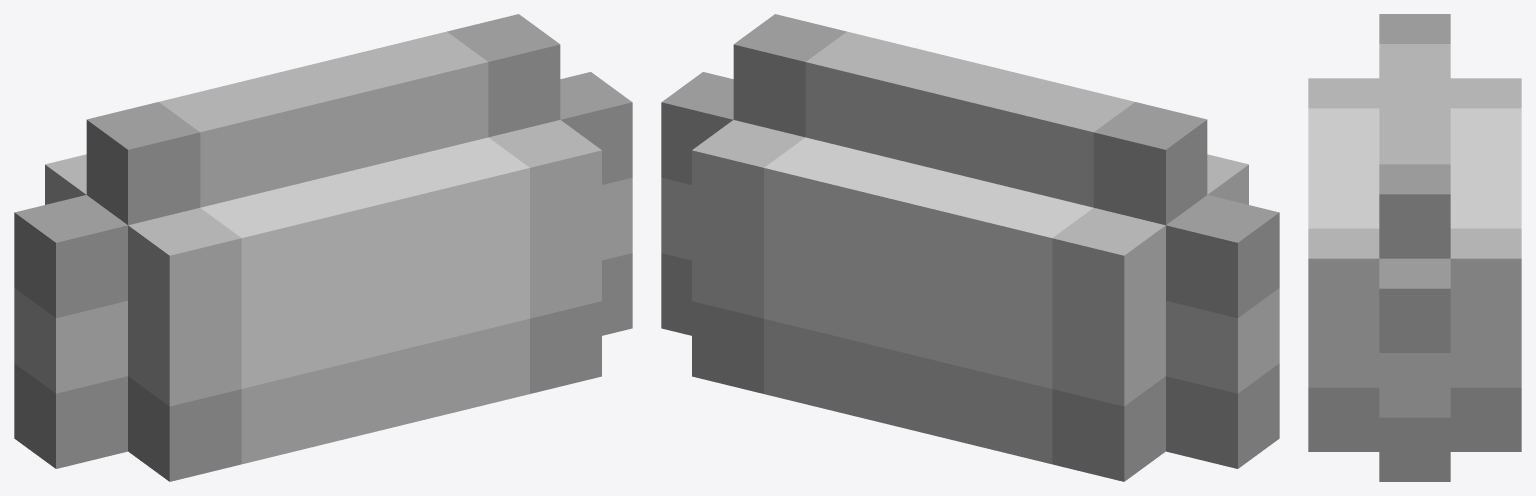
Rendered from Interior_Furniture-65.obj.
The picture shows the model from 3 angles, left to right: view 1: azimuth 30°, elevation 25°; view 2: azimuth 150°, elevation 25°; view 3: azimuth 270°, elevation 25°; orthographic projection. The views are drawn at different scales.
Bounding box in the file's own units: 0.8 × 0.4 × 0.3.
Materials: 1 (1 with a texture image).
